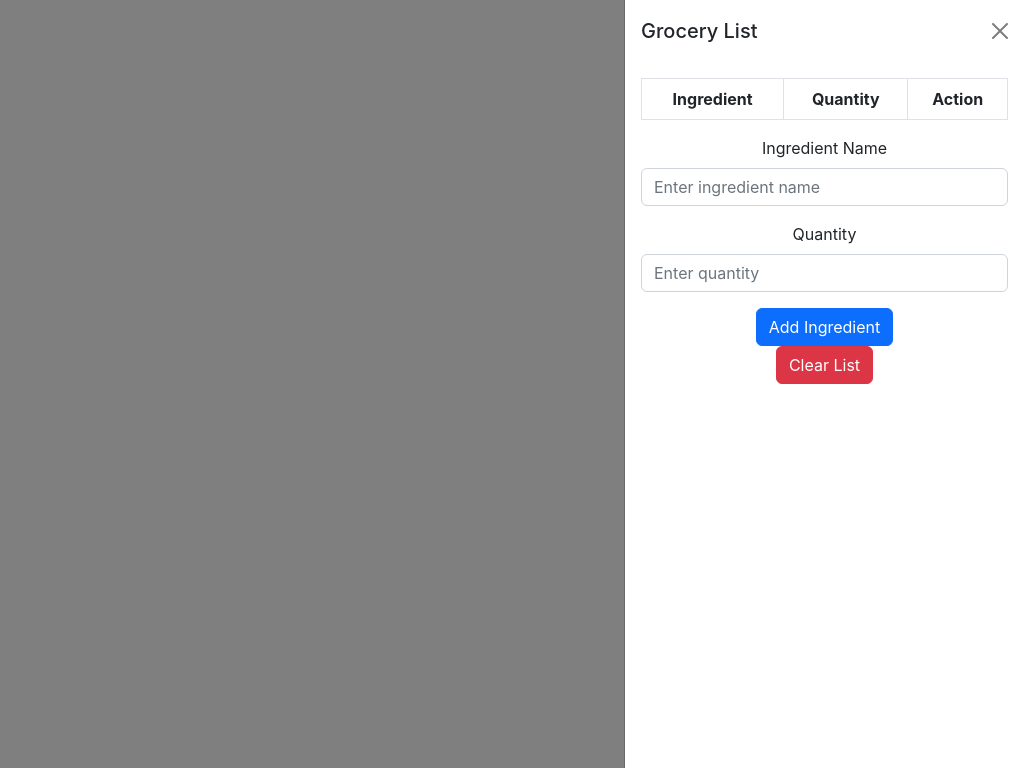
Test: handles clearing the list
The image size is (1024, 768).
// add a sample ingredient
Type "Tomato" into the field with placeholder "Enter ingredient name" at (824,187), box [641,168,1008,206]
Type "1lb" into the field with placeholder "Enter quantity" at (824,273), box [641,254,1008,292]
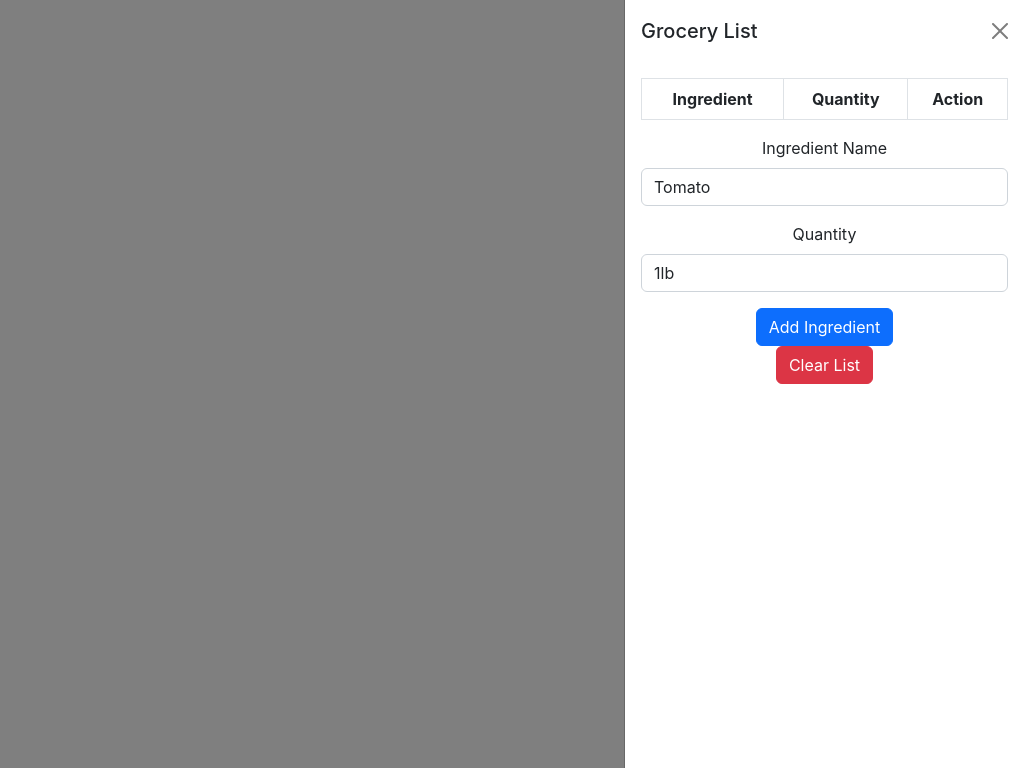
Click the button "Add Ingredient" at (825,327), box [756,308,893,346]
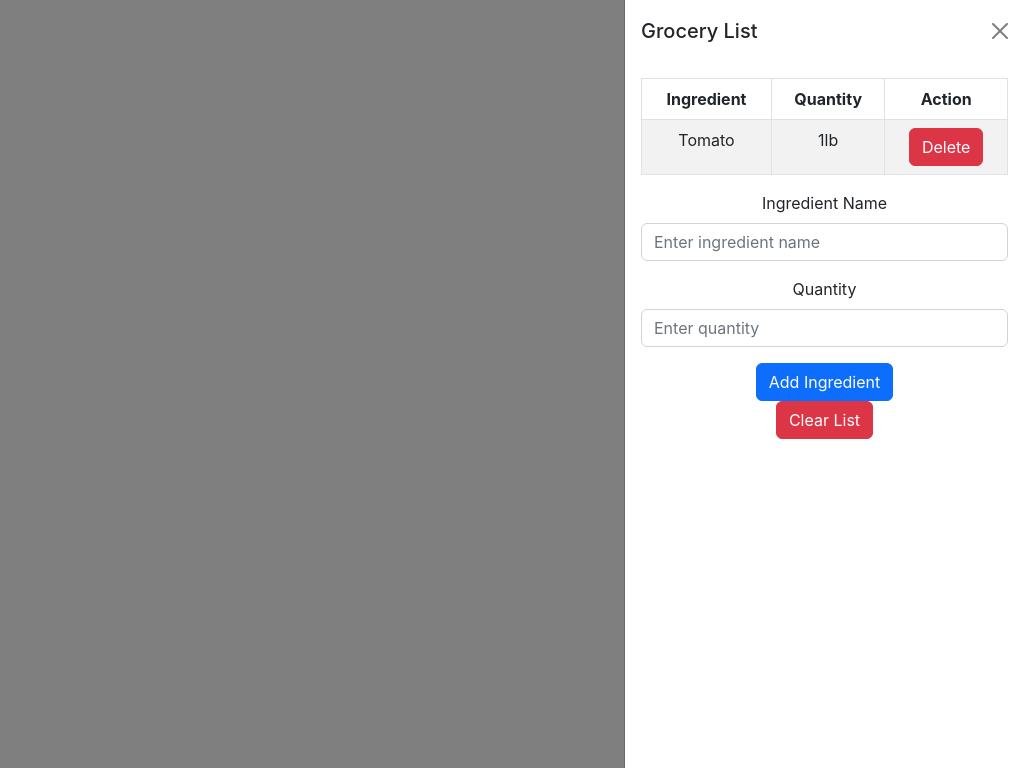
// add a second sample ingredient
Type "Onion" into the field with placeholder "Enter ingredient name" at (824,242), box [641,223,1008,261]
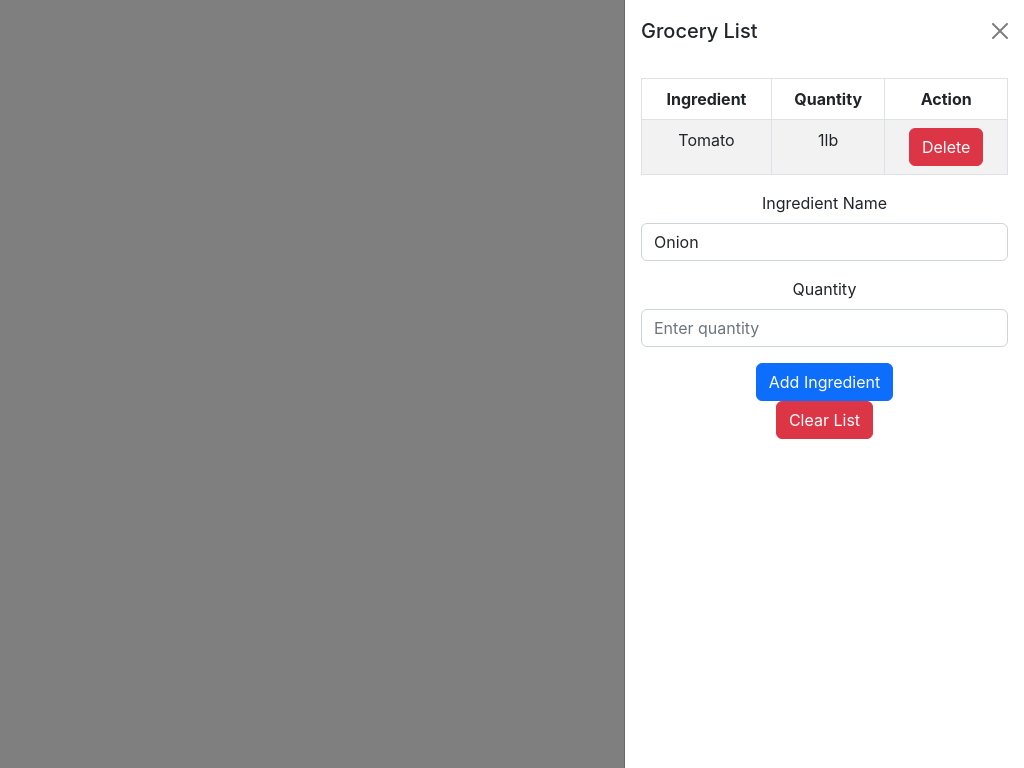
Type "2lb" into the field with placeholder "Enter quantity" at (824,328), box [641,309,1008,347]
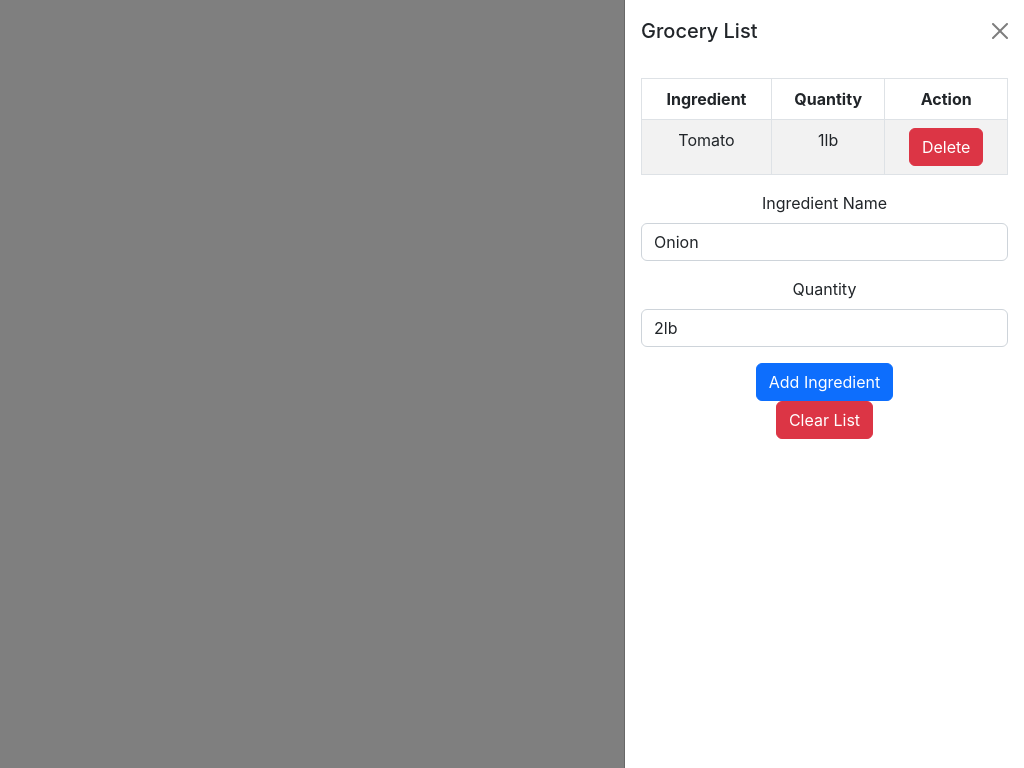
Click the button "Add Ingredient" at (825,382), box [756,363,893,401]
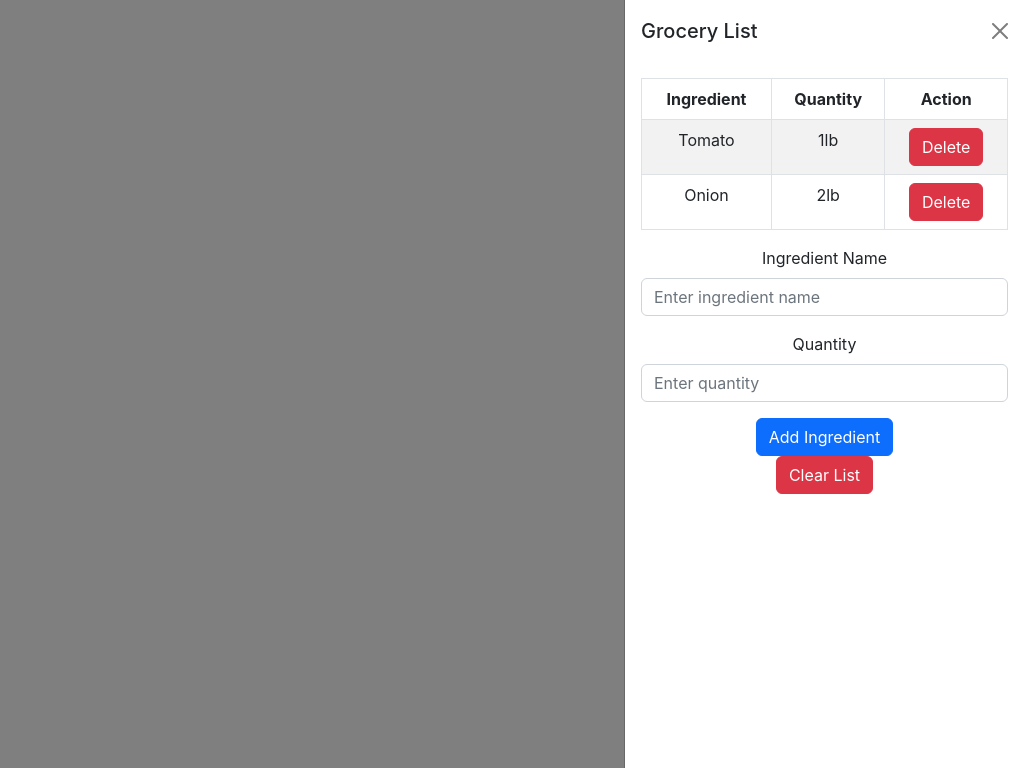
// click the Clear List button
Click the button "Clear List" at (824,475), box [776,456,873,494]
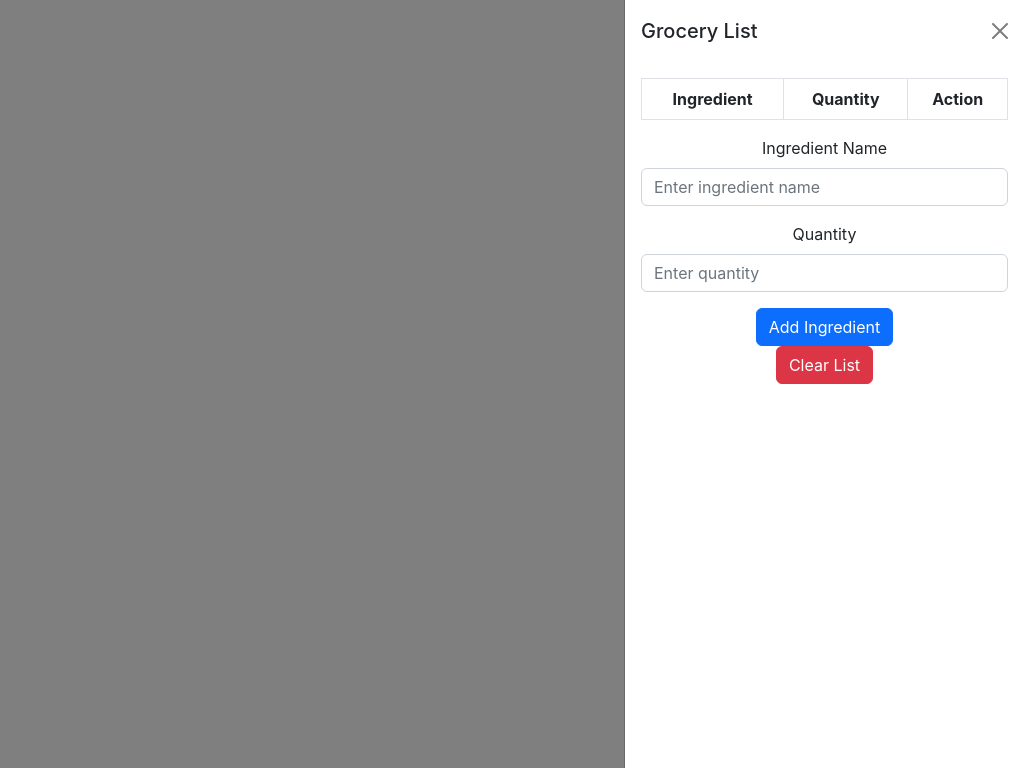
Now the cell is gone
